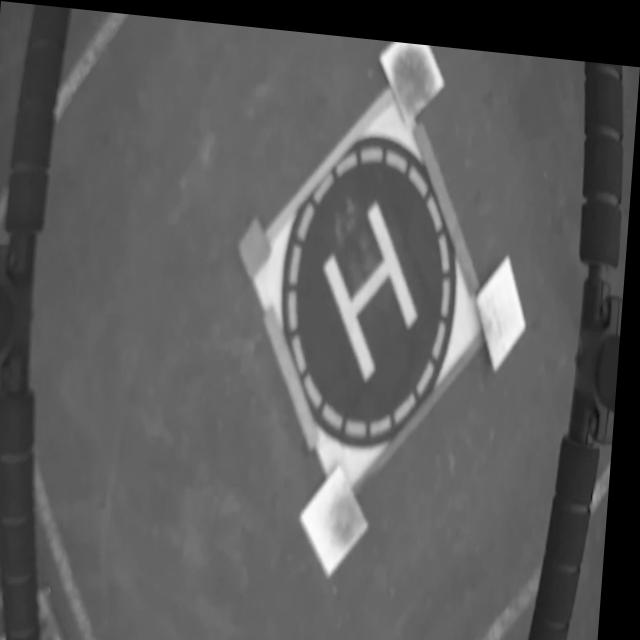Helipad: (325, 190, 422, 371)
